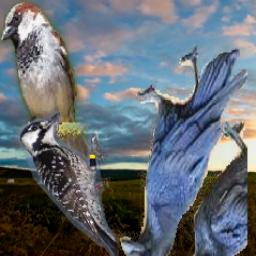Crow: (119, 43, 249, 256)
Sparrow: (1, 1, 96, 168)
Woodpecker: (18, 112, 119, 256)
